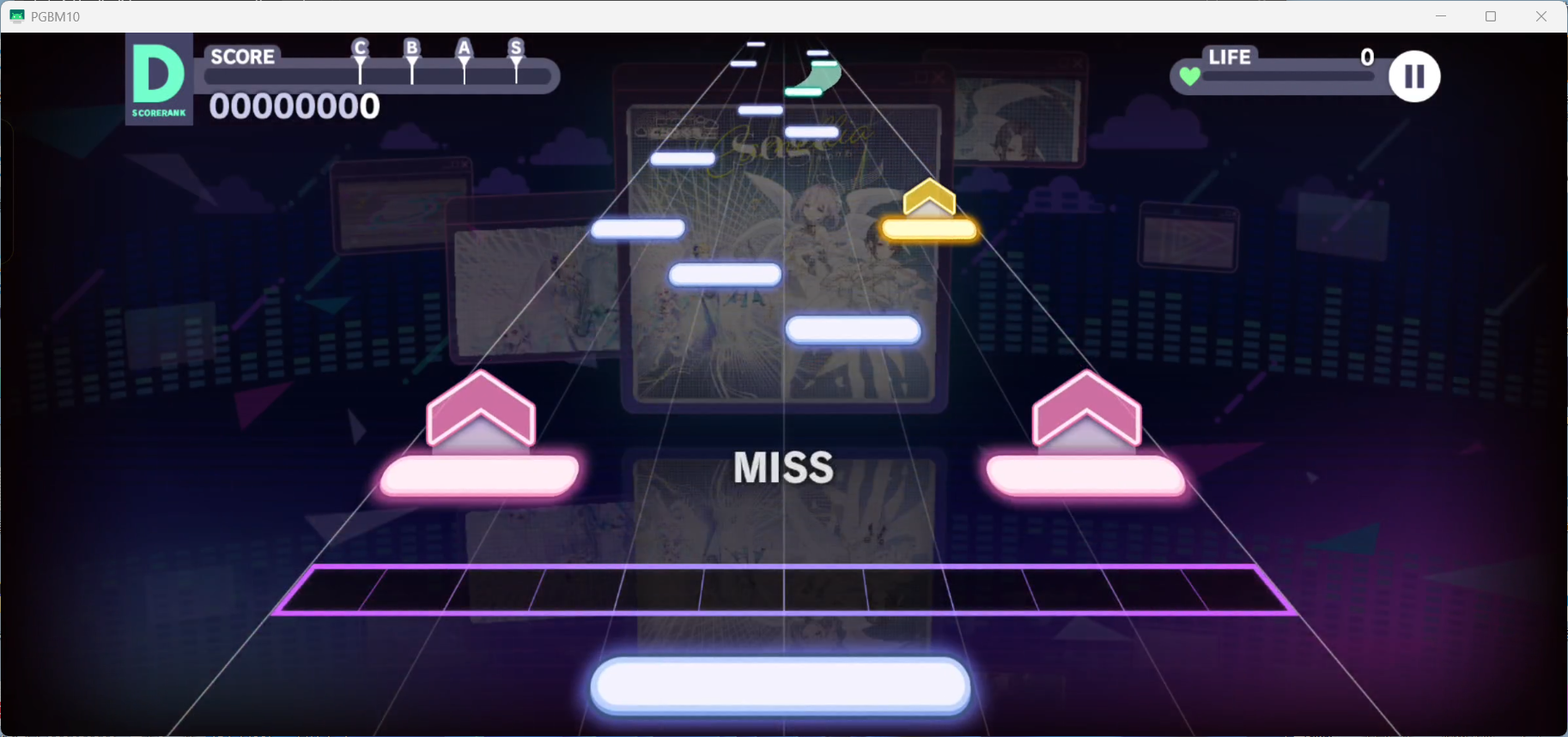flick: (425, 366, 534, 456), (1031, 368, 1141, 456), (903, 177, 956, 218)
hold: (794, 66, 842, 88)
tap: (589, 657, 971, 716), (987, 455, 1187, 497), (380, 456, 577, 496), (785, 316, 922, 346), (669, 263, 783, 288), (881, 219, 977, 239), (591, 219, 684, 239), (648, 153, 714, 166), (785, 126, 839, 138), (738, 106, 783, 115), (784, 88, 823, 96), (729, 60, 757, 67), (806, 50, 829, 57), (811, 60, 837, 66), (746, 41, 765, 47)
